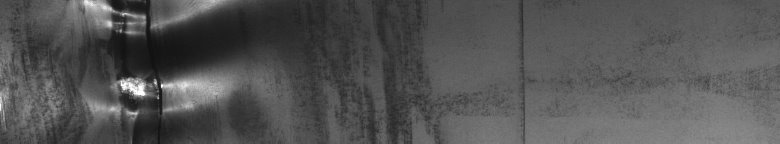ke: (4, 4, 226, 136)
